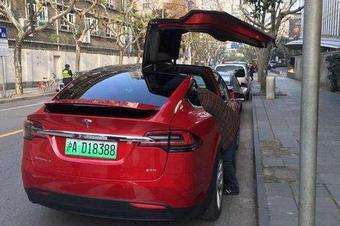plate: (61, 131, 121, 164)
